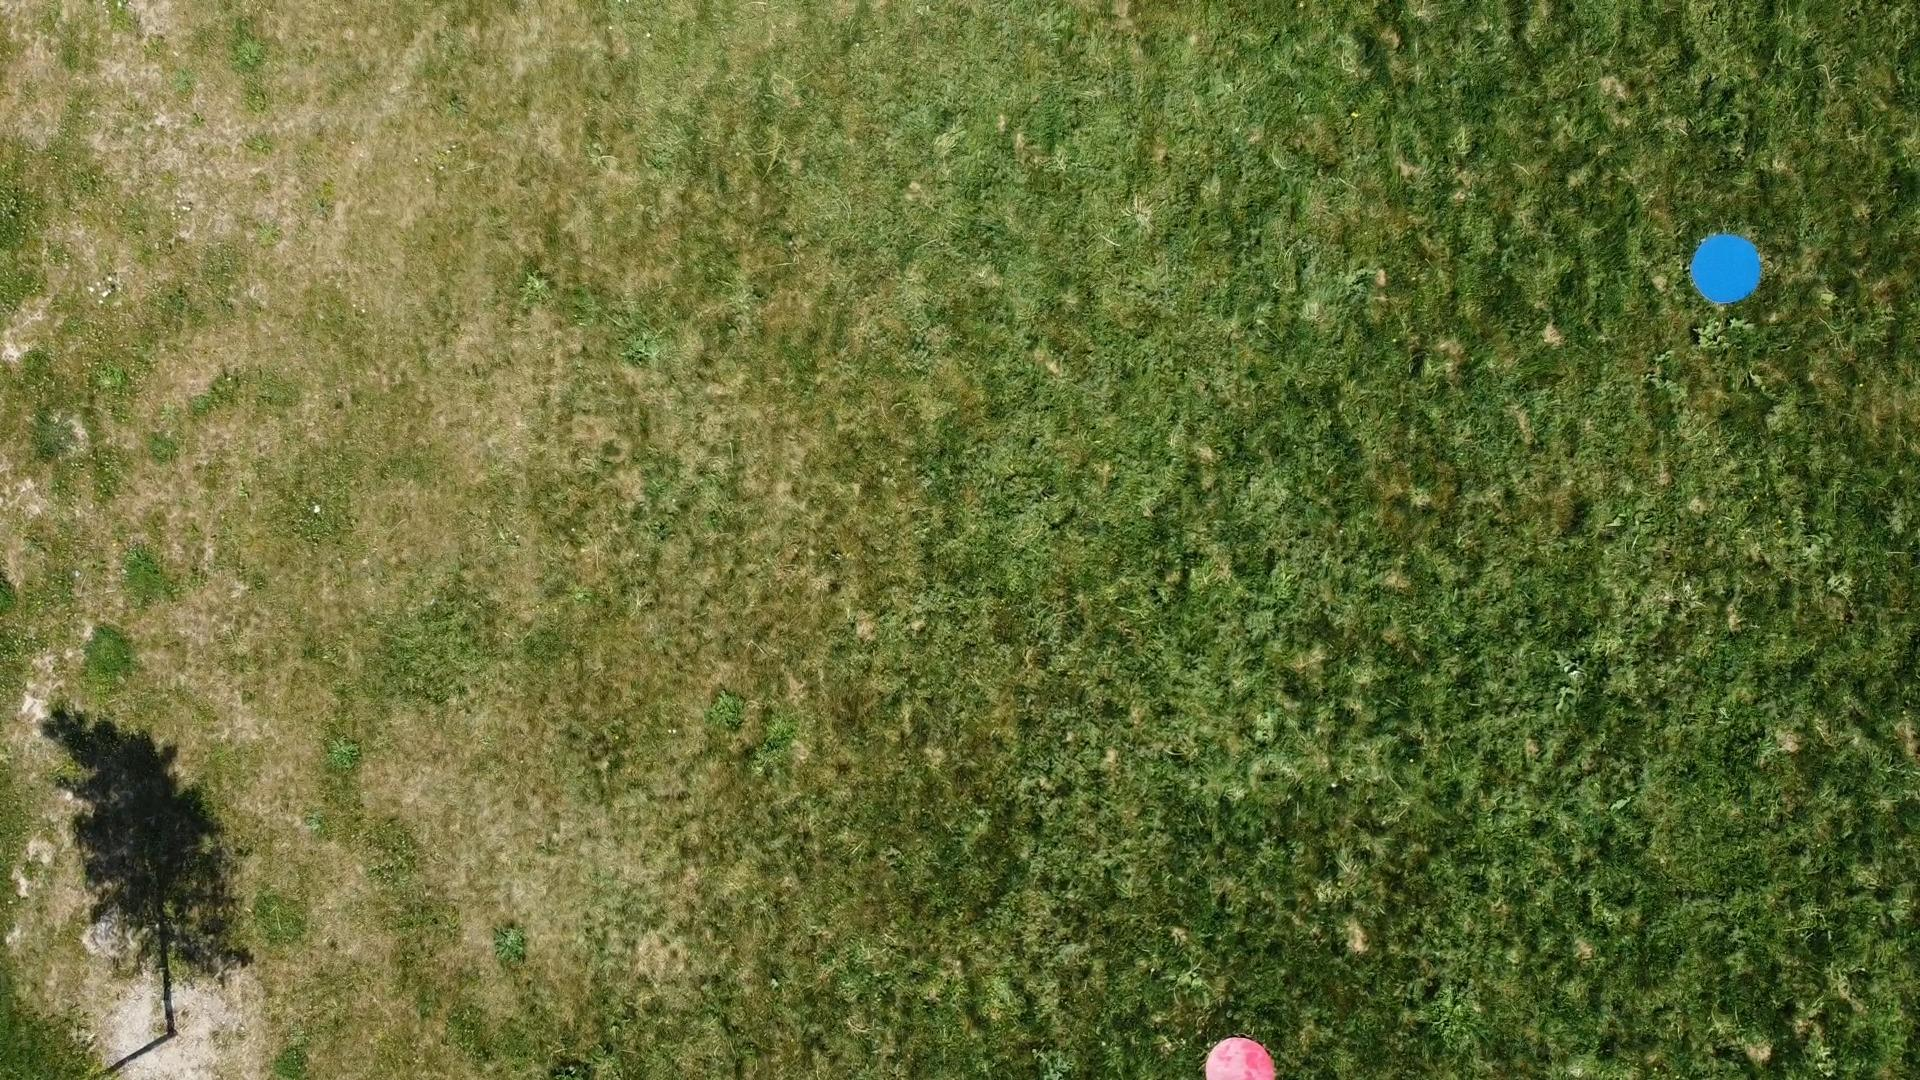Blue: (1688, 232, 1766, 306)
Red: (1204, 1036, 1278, 1080)
